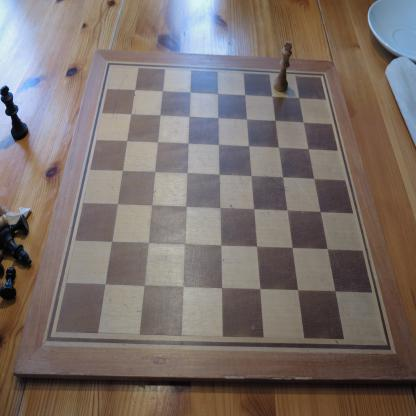black-bishop: (0, 228, 32, 266)
black-king: (0, 84, 29, 142)
black-pawn: (0, 266, 18, 301)
white-king: (272, 40, 293, 93)
white-knight: (0, 205, 33, 228)
